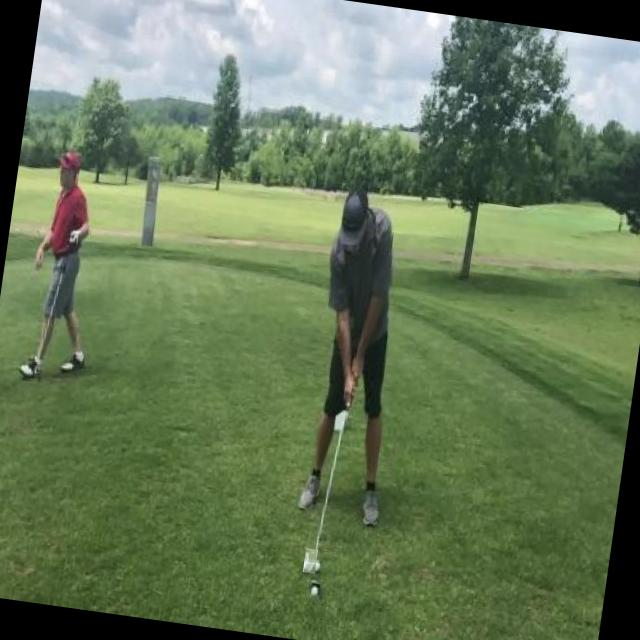club head: (303, 548, 318, 574)
